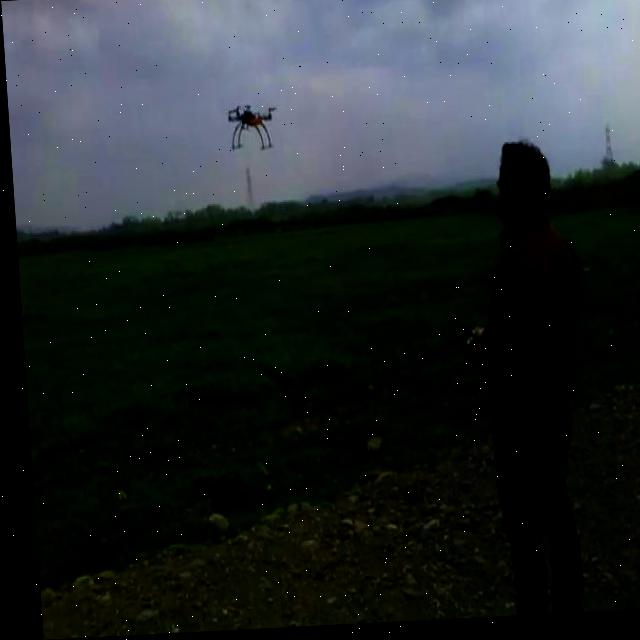drone: (221, 100, 277, 155)
